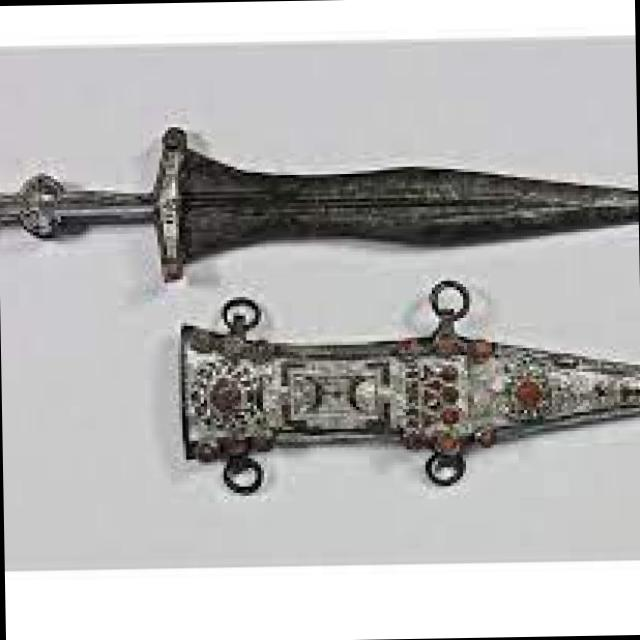Gun: (0, 94, 639, 285)
